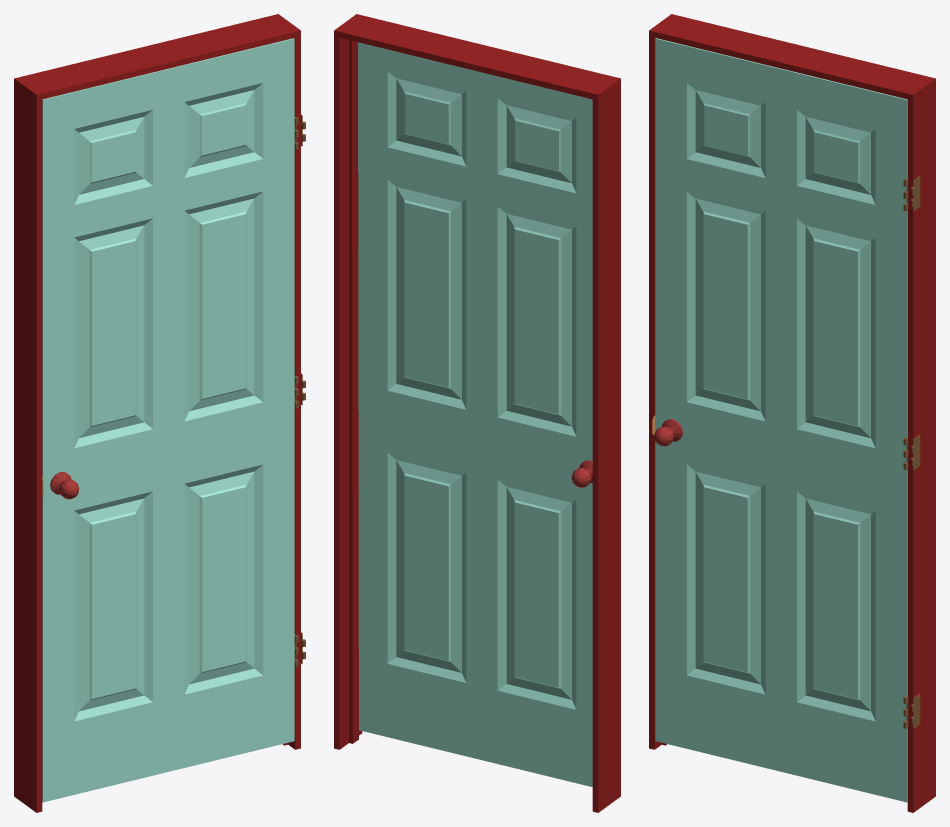
Rendered from Porte.glb.
3 views of the same model, side by side, from view 1: azimuth 30°, elevation 25°; view 2: azimuth 150°, elevation 25°; view 3: azimuth 330°, elevation 25° (orthographic).
Visible parts, largest first — view 1: Door1, Door1Frame; view 2: Door1, Door1Frame; view 3: Door1, Door1Frame.
Boxes of the visible parts, left/top/right/bottom form: Door1: left=42, top=38, right=305, bottom=802; Door1Frame: left=14, top=14, right=300, bottom=812; Door1: left=358, top=42, right=592, bottom=786; Door1Frame: left=334, top=14, right=620, bottom=812; Door1: left=655, top=38, right=920, bottom=802; Door1Frame: left=649, top=14, right=935, bottom=812.
Size of the model in its own units: 0.8094 by 2.08 by 0.191.
